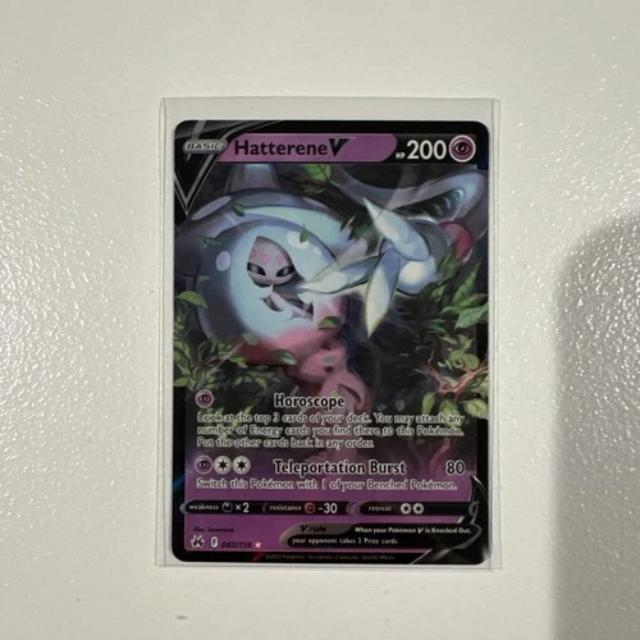Card: (164, 115, 492, 571)
Name: (229, 132, 349, 157)
